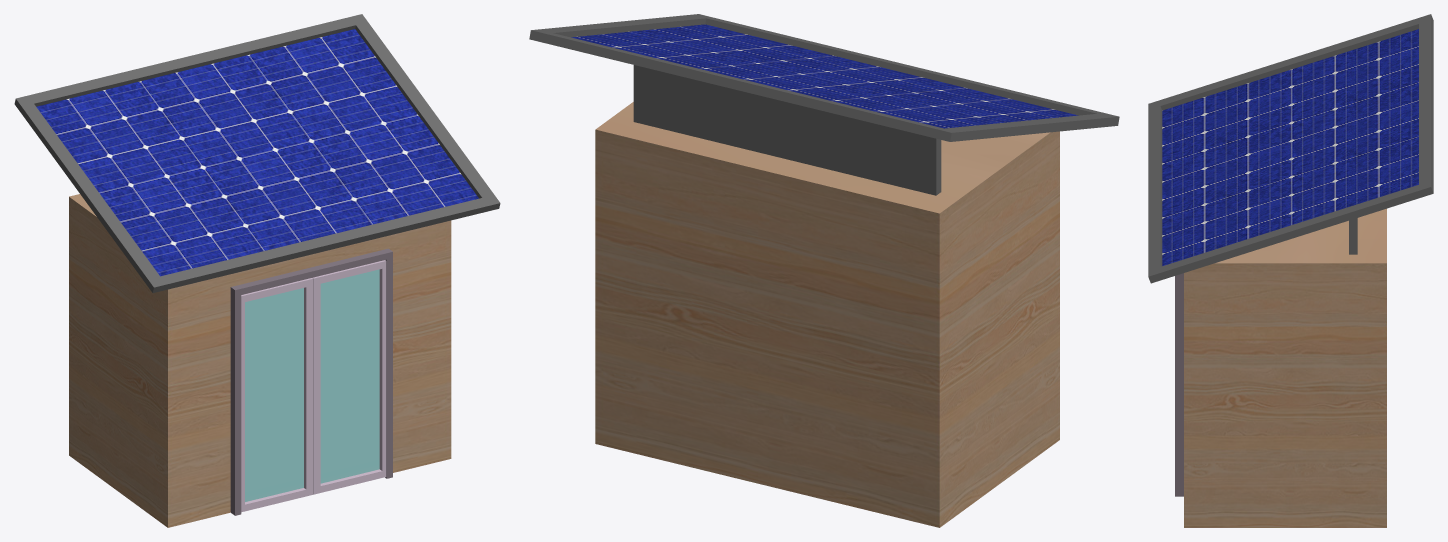
File: buildings_tinybox.fbx
3 renders of one model, left to right at view 1: azimuth 30°, elevation 25°; view 2: azimuth 150°, elevation 25°; view 3: azimuth 270°, elevation 25°, orthographic. The views are drawn at different scales.
Parts seen in each view (by area): view 1: TinyBox; view 2: TinyBox; view 3: TinyBox.
Part boxes in pixels (x1,y1,x2,y2): TinyBox: (14, 14, 500, 527); TinyBox: (529, 14, 1119, 527); TinyBox: (1148, 14, 1433, 527).
Bounding box in the file's own units: 244 × 235 × 171.
